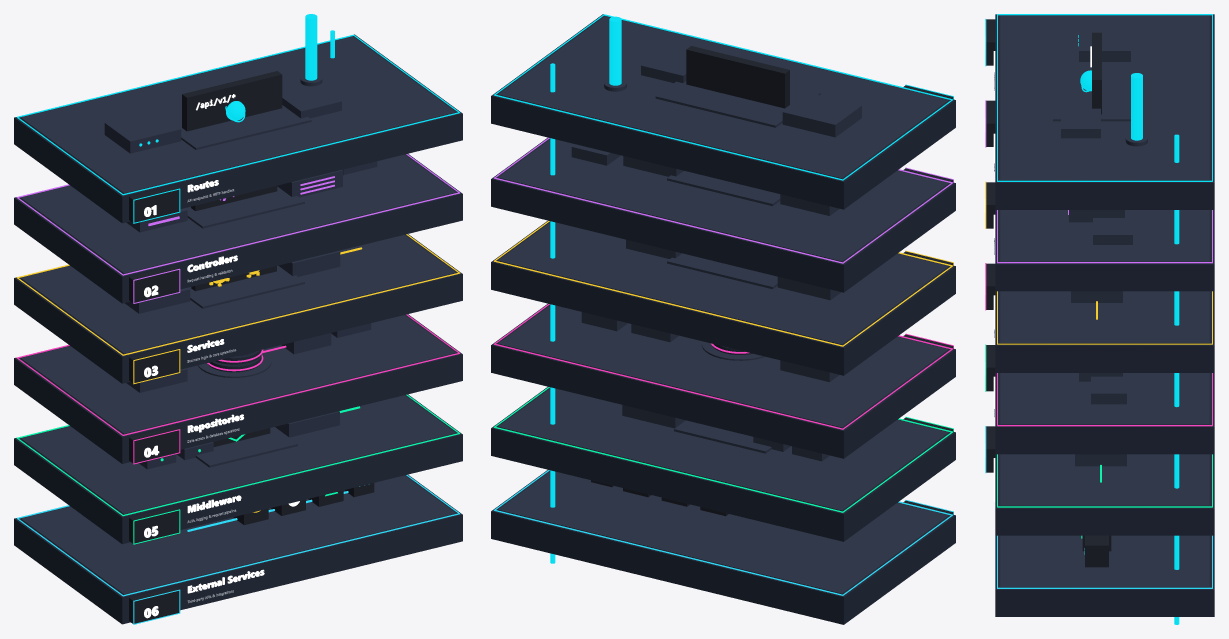
File: architecture_stack_master.glb
3 renders of one model, left to right at view 1: azimuth 30°, elevation 25°; view 2: azimuth 150°, elevation 25°; view 3: azimuth 270°, elevation 25°, orthographic. The views are drawn at different scales.
Parts seen in each view (by area): view 1: L01_TopDeck, L06_TopDeck, L04_TopDeck, L05_TopDeck, L03_TopDeck, L02_TopDeck, L01_BaseSlab, L03_BaseSlab, L02_BaseSlab, L05_BaseSlab, L04_BaseSlab, L06_BaseSlab (+25 smaller); view 2: L01_TopDeck, L06_TopDeck, L04_TopDeck, L05_TopDeck, L03_TopDeck, L02_TopDeck, L01_BaseSlab, L05_BaseSlab, L04_BaseSlab, L06_BaseSlab, L02_BaseSlab, L03_BaseSlab (+17 smaller); view 3: L01_TopDeck, L03_TopDeck, L05_TopDeck, L06_TopDeck, L04_TopDeck, L02_TopDeck, L01_BaseSlab, L03_BaseSlab, L05_BaseSlab, L02_BaseSlab, L04_BaseSlab, L06_BaseSlab (+24 smaller).
Boxes of the visible parts, x1,y1,x2,y2 form: L01_TopDeck: (21,36,456,193); L06_TopDeck: (21,475,456,594); L04_TopDeck: (20,315,455,434); L05_TopDeck: (20,395,456,514); L03_TopDeck: (20,235,455,354); L02_TopDeck: (20,154,456,273); L01_BaseSlab: (14,34,462,223); L03_BaseSlab: (14,234,462,383); L02_BaseSlab: (14,154,462,303); L05_BaseSlab: (14,394,462,544); L04_BaseSlab: (14,314,462,463); L06_BaseSlab: (14,474,462,624); L01_TopDeck: (498,16,948,178); L06_TopDeck: (498,471,948,594); L04_TopDeck: (498,305,948,427); L05_TopDeck: (498,388,948,511); L03_TopDeck: (498,222,948,344); L02_TopDeck: (498,139,948,261); L01_BaseSlab: (491,14,955,209); L05_BaseSlab: (491,386,955,541); L04_BaseSlab: (491,303,955,458); L06_BaseSlab: (491,470,955,624); L02_BaseSlab: (491,137,955,292); L03_BaseSlab: (491,220,955,375); L01_TopDeck: (1000,15,1209,180); L03_TopDeck: (1000,291,1209,343); L05_TopDeck: (1000,454,1209,506); L06_TopDeck: (1000,535,1209,587); L04_TopDeck: (1000,373,1209,424); L02_TopDeck: (1000,210,1209,261); L01_BaseSlab: (995,14,1214,209); L03_BaseSlab: (995,291,1214,372); L05_BaseSlab: (995,454,1214,535); L02_BaseSlab: (995,210,1214,291); L04_BaseSlab: (995,373,1214,454); L06_BaseSlab: (995,535,1214,616).
Size of what is drawn, in the model's own units: 10 by 14.6 by 5.78.
